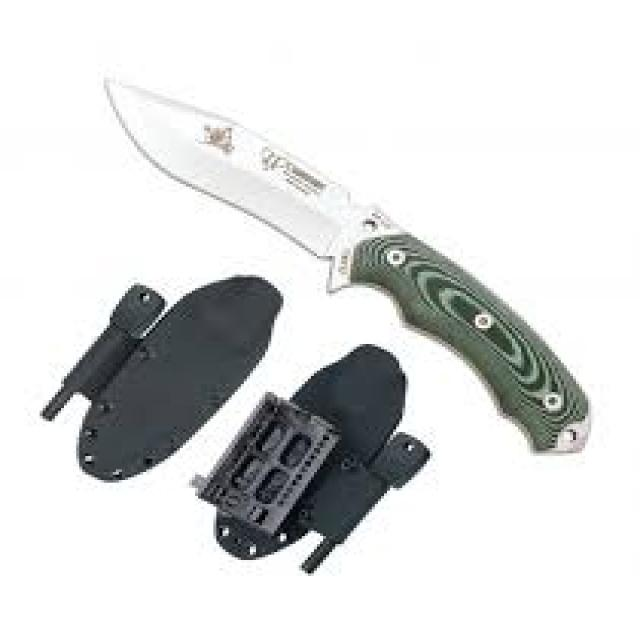knives: (95, 72, 598, 461)
